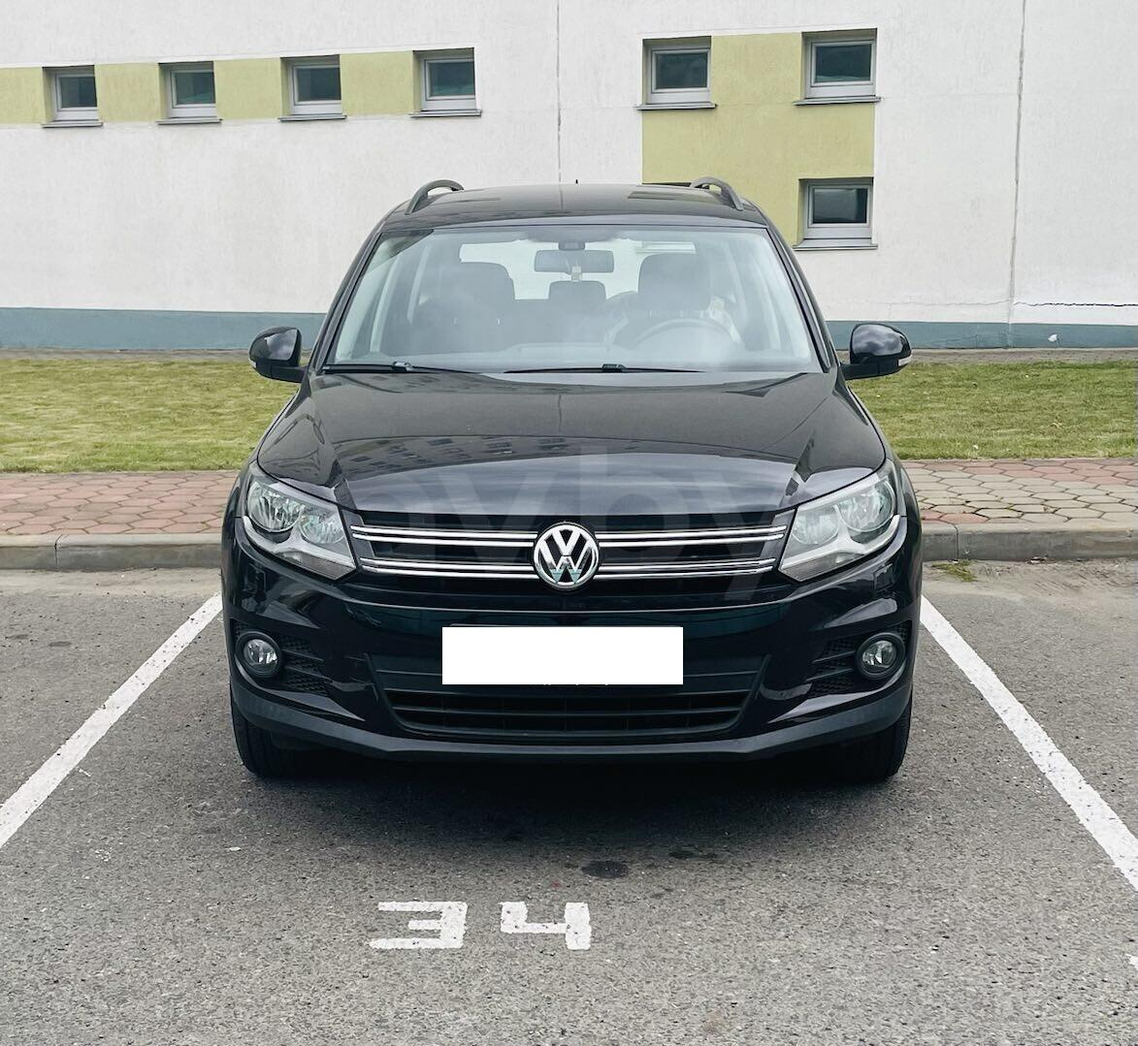Tiguan_2011-2018: (213, 179, 933, 817)
